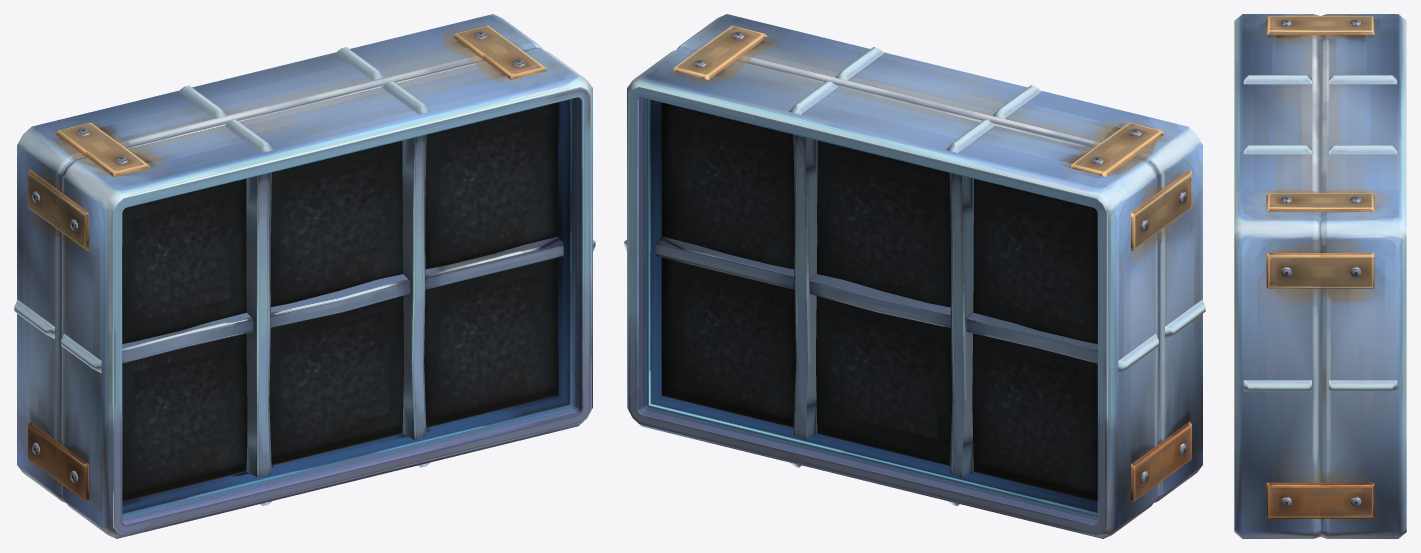
File: Bomb_casing.fbx
3 renders of one model, left to right at view 1: azimuth 30°, elevation 25°; view 2: azimuth 150°, elevation 25°; view 3: azimuth 270°, elevation 25°, orthographic. The views are drawn at different scales.
Parts seen in each view (by area): view 1: Bomb_frame, Foam_F6, Foam_F3, Foam_F2, Foam_F4, Foam_F5, Foam_F1, Foam_F1_hole, Foam_F6_hole, Foam_F4_hole, Foam_F5_hole, Foam_F2_hole; view 2: Bomb_frame, Foam_B4, Foam_B2, Foam_B1, Foam_B6, Foam_B3, Foam_B5, Foam_B5_hole, Foam_B3_hole, Foam_B4_hole, Foam_B1_hole, Foam_B6_hole (+1 smaller); view 3: Bomb_frame.
Boxes of the visible parts, box(x1,y1,x2,y2) form: Bomb_frame: box(14, 14, 595, 538); Foam_F6: box(424, 257, 558, 427); Foam_F3: box(425, 102, 558, 269); Foam_F2: box(270, 140, 402, 306); Foam_F4: box(122, 333, 247, 501); Foam_F5: box(269, 298, 403, 465); Foam_F1: box(122, 178, 246, 343); Foam_F1_hole: box(122, 179, 246, 343); Foam_F6_hole: box(425, 258, 558, 427); Foam_F4_hole: box(122, 334, 246, 499); Foam_F5_hole: box(272, 296, 403, 452); Foam_F2_hole: box(271, 142, 402, 304); Bomb_frame: box(624, 14, 1205, 538); Foam_B4: box(661, 257, 795, 427); Foam_B2: box(817, 140, 950, 307); Foam_B1: box(661, 102, 794, 269); Foam_B6: box(972, 333, 1097, 501); Foam_B3: box(973, 178, 1097, 343); Foam_B5: box(816, 296, 952, 465); Foam_B5_hole: box(816, 320, 951, 465); Foam_B3_hole: box(973, 179, 1097, 343); Foam_B4_hole: box(661, 259, 789, 425); Foam_B1_hole: box(661, 105, 793, 252); Foam_B6_hole: box(972, 334, 1097, 501); Bomb_frame: box(1234, 14, 1406, 538).
Size of the model in its own units: 718 by 494 by 234.
